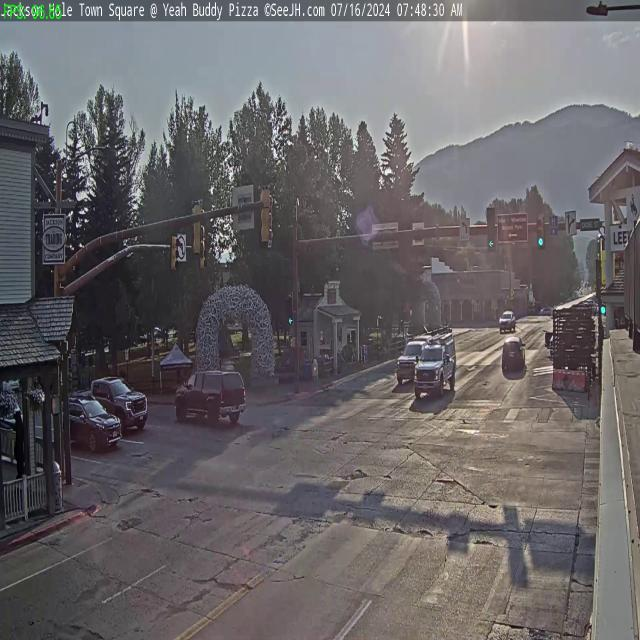suv: (61, 392, 120, 459), (90, 376, 148, 433), (501, 335, 524, 371), (499, 309, 516, 332)
traffic light: (190, 199, 203, 256), (260, 184, 272, 245), (486, 205, 496, 248), (170, 235, 180, 272), (537, 214, 545, 248)
truck: (172, 367, 247, 428), (414, 339, 457, 403), (397, 331, 434, 382)
